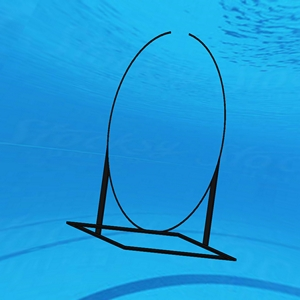circle: (66, 30, 238, 264)
